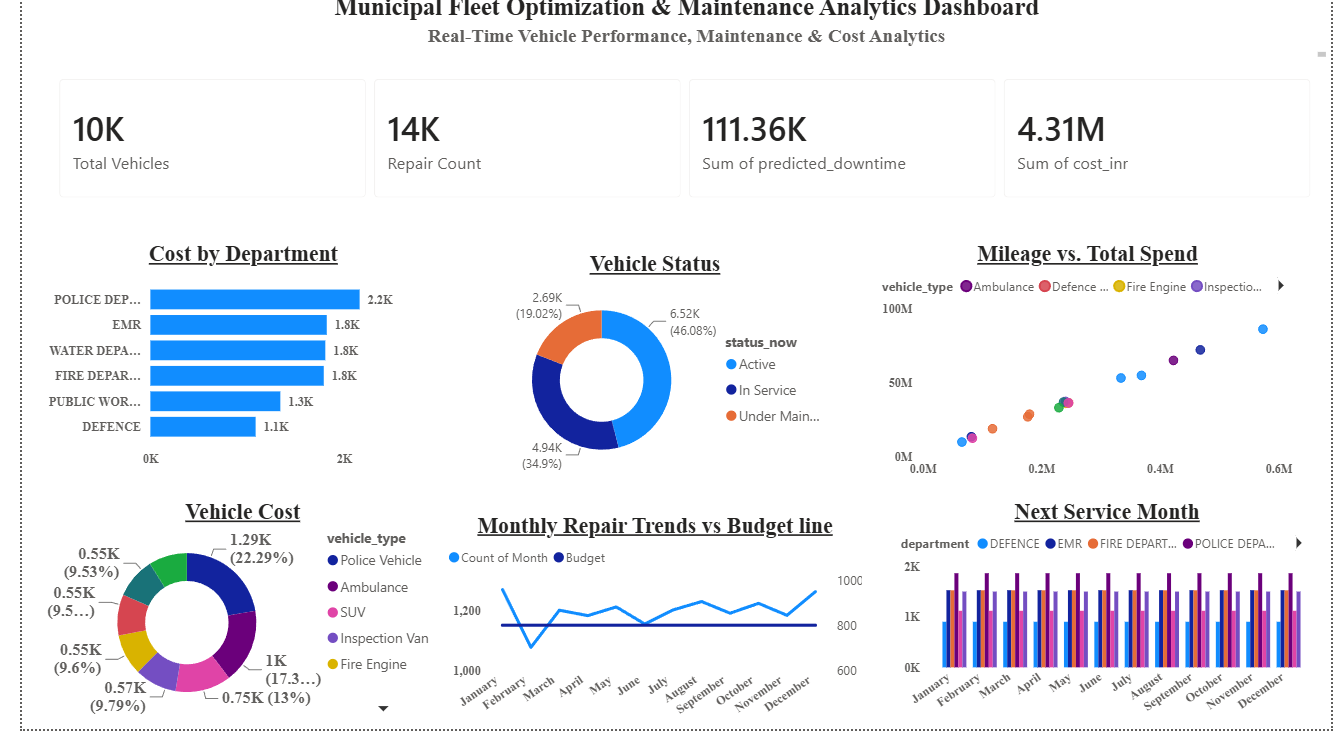

What the dashboard file says about the page in this screenshot:
{"tool":"powerbi","page":{"name":"overview","canvas":[1280,720],"ordinal":0},"visuals":[{"type":"clusteredColumnChart","title":"Next Service Month","fields":{"Category":["next service.next_service_date.Variation.Date Hierarchy.Month"],"Series":["vehicles.department"],"Y":["maintenance_records.Vehicle Count"]},"box":[854.4,494.7,413.4,224.6],"z":0},{"type":"scatterChart","title":"Mileage vs. Total Spend","fields":{"Category":["vehicles.department"],"X":["Sum(maintenance_records.cost_inr)"],"Y":["Sum(vehicles.odometer_km)"],"Series":["vehicles.vehicle_type"]},"box":[836.5,243.9,412.1,237],"z":1000},{"type":"donutChart","title":"Vehicle Cost","fields":{"Category":["vehicles.vehicle_type"],"Y":["CountNonNull(vehicles.status_now)"]},"box":[19.3,494.7,392.8,217.7],"z":2000},{"type":"barChart","title":"Cost by Department","fields":{"Category":["vehicles.department"],"Y":["CountNonNull(vehicles.vehicle_type)"]},"box":[9.6,243.9,413.4,227.4],"z":3000},{"type":"lineChart","title":" Monthly Repair Trends vs Budget line","fields":{"Category":["maintenance_records.Month.Variation.Date Hierarchy.Month"],"Y":["CountNonNull(maintenance_records.Month)"],"Y2":["maintenance_records.Budget"]},"box":[411.7,509.1,414.4,209.9],"z":4000},{"type":"textbox","title":" Municipal Fleet Optimization & Maintenance Analytics Dashboard","box":[19.3,0,1261,67.5],"z":5000},{"type":"cardVisual","fields":{"Data":["vehicles.Total Vehicles","maintenance_records.Repair Count","Sum(next service.predicted_downtime)","Sum(maintenance_records.cost_inr)"]},"box":[19.3,67.5,1261,150.2],"z":6000},{"type":"donutChart","title":"Vehicle Status","fields":{"Category":["vehicles.status_now"],"Y":["CountNonNull(Fleet_avaliability.department)"]},"box":[441,253.6,355.6,227.4],"z":7000}]}

Visuals, with their boxes in screenshot pixels (x1, y1, x2, y2), scaled from the page's 1280x720 canvas onto the 1341x737 screenshot:
"Next Service Month" clusteredColumnChart: locate(895, 506, 1328, 736)
"Mileage vs. Total Spend" scatterChart: locate(876, 250, 1308, 492)
"Vehicle Cost" donutChart: locate(20, 506, 432, 729)
"Cost by Department" barChart: locate(10, 250, 443, 482)
" Monthly Repair Trends vs Budget line" lineChart: locate(431, 521, 865, 736)
" Municipal Fleet Optimization & Maintenance Analytics Dashboard" textbox: locate(20, 0, 1340, 69)
cardVisual - vehicles.Total Vehicles x maintenance_records.Repair Count: locate(20, 69, 1340, 223)
"Vehicle Status" donutChart: locate(462, 260, 835, 492)
